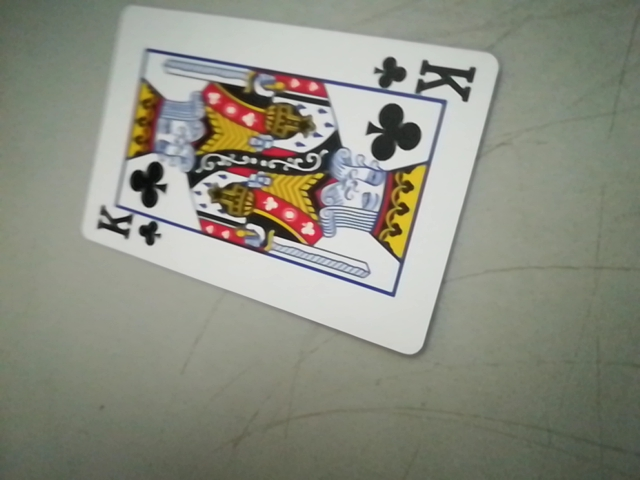mh k: (374, 51, 481, 100), (90, 206, 168, 251)
